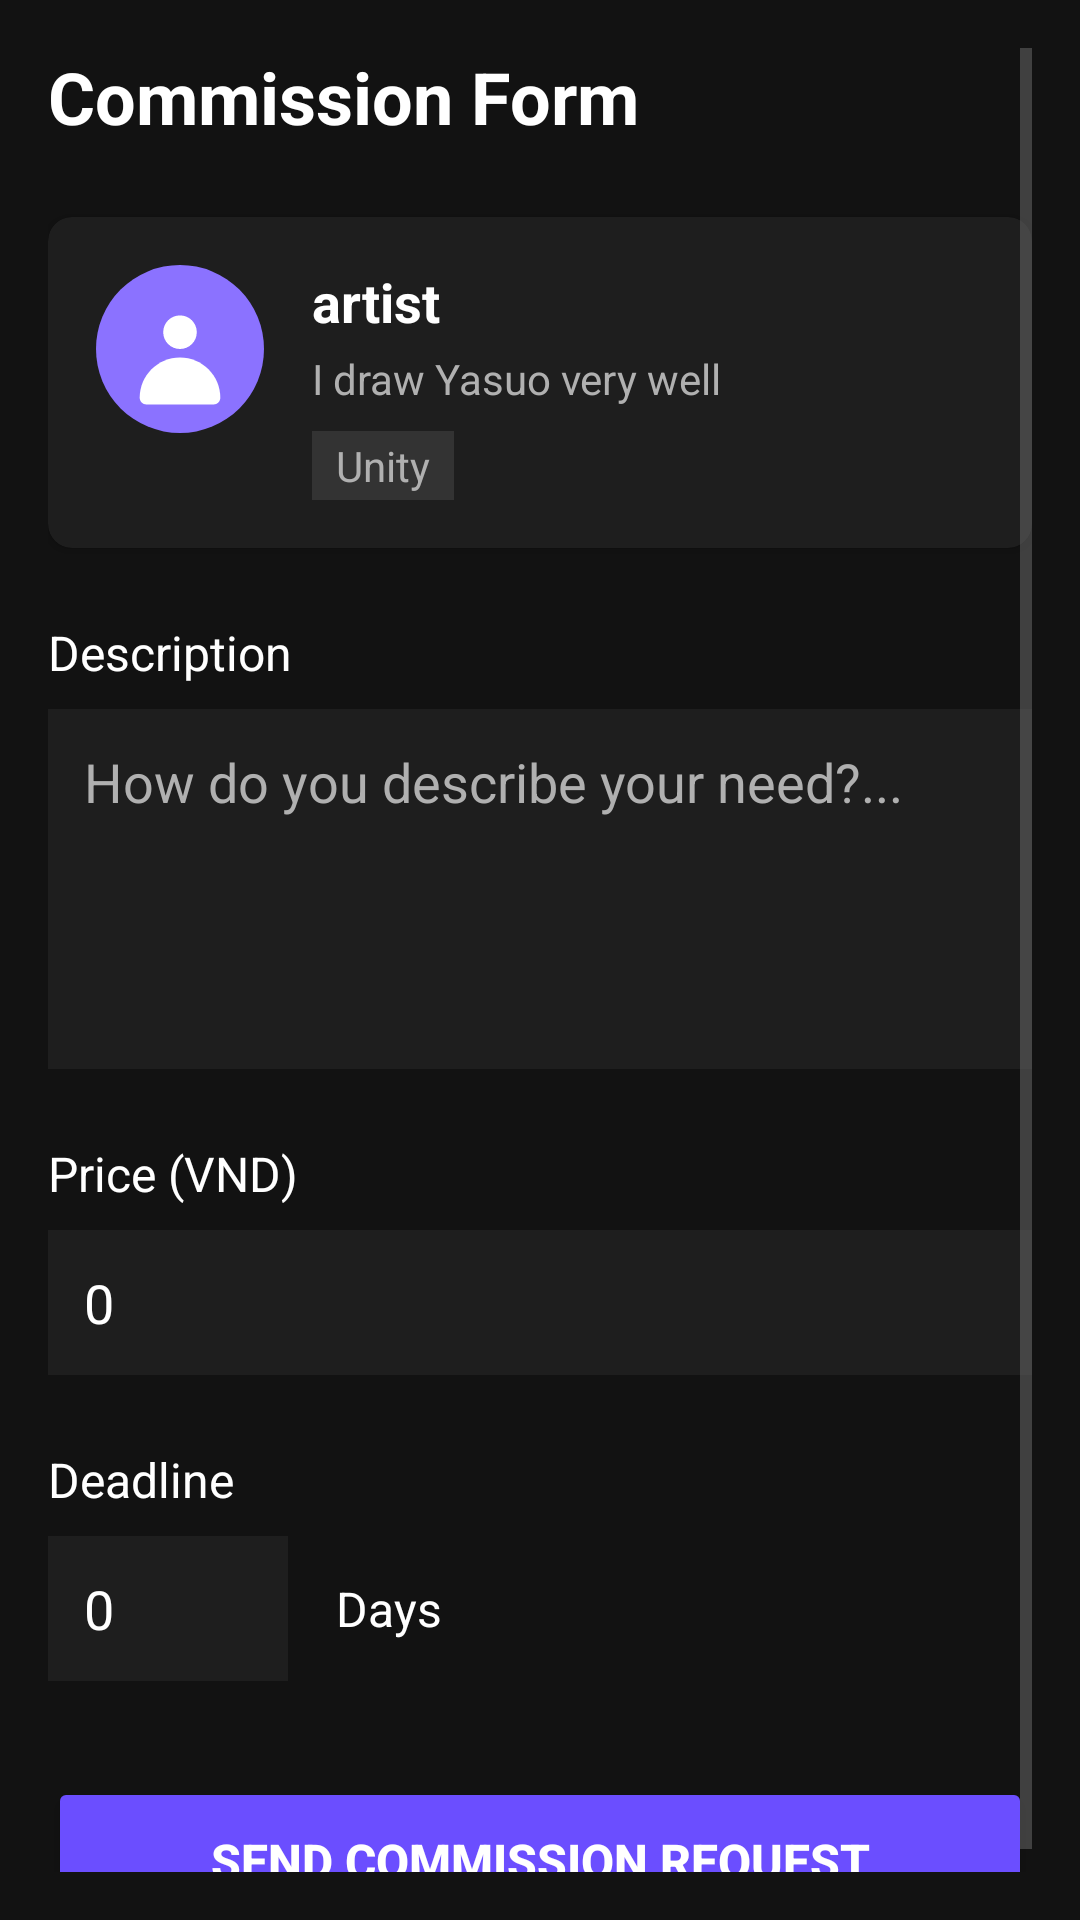

Named icons in this screenshot (1080 x 1920) and their bounding boxes, (x1, y1, x2, y2):
defaultavatar: (96, 265, 264, 433)
